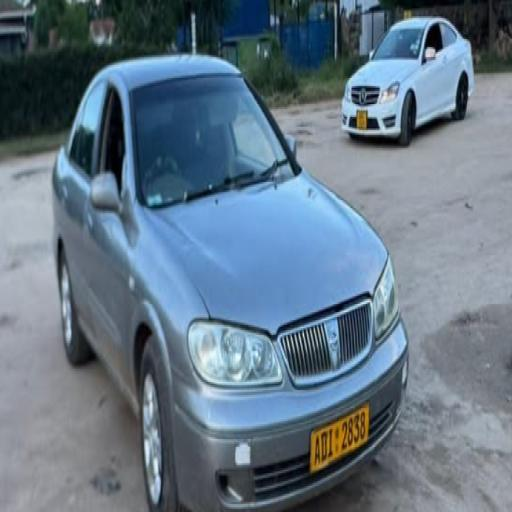number-plates: (311, 404, 369, 466), (354, 108, 368, 128)
